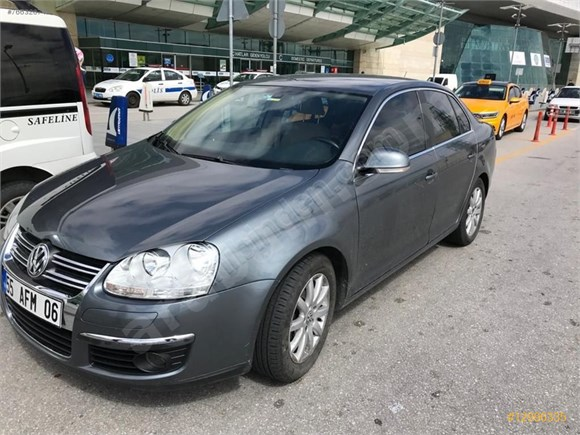ARABA: (1, 73, 497, 395)
